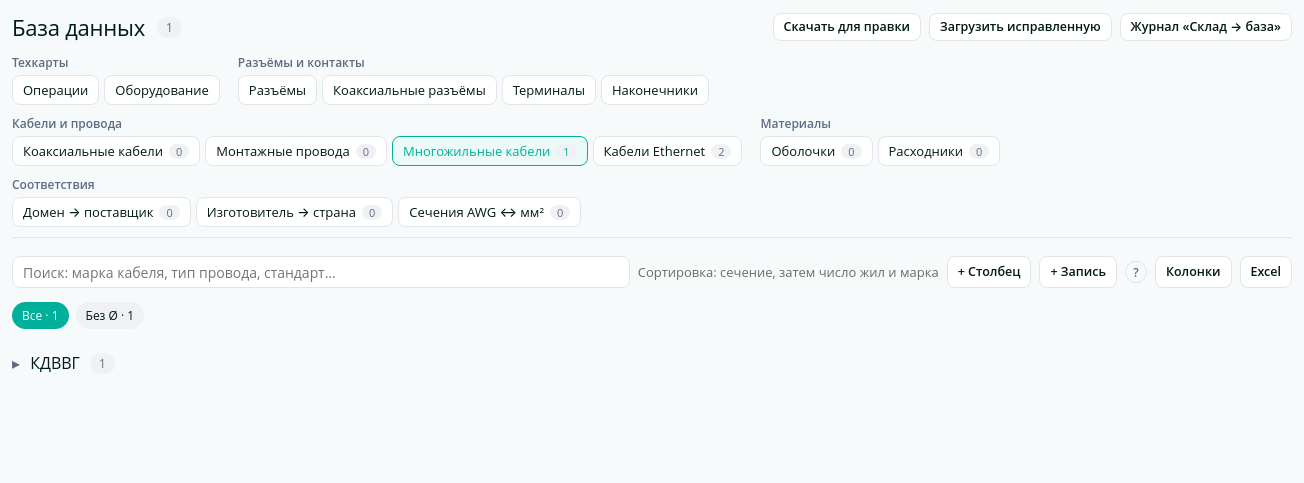
Test: puts «Кабели Ethernet» right after «Многожильные кабели» with its own count
Click the button with class "dt-block-fold" at (64, 363), box [12, 353, 115, 374]
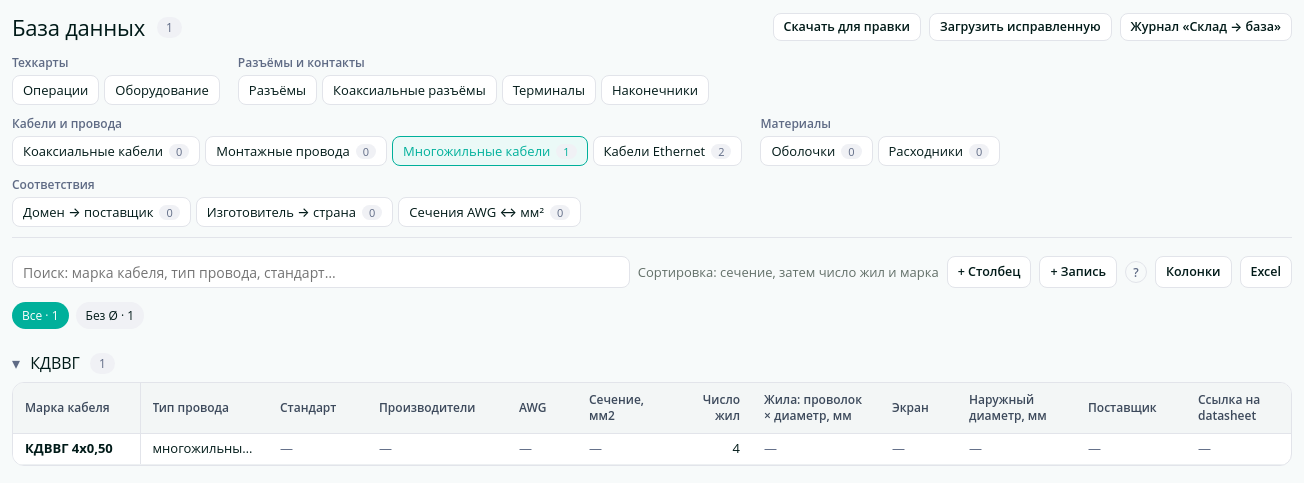
Check: the text "2" is shown, box [711, 144, 731, 158]
Check: the text "КДВВГ 4х0,50" is shown, box [25, 440, 128, 458]
